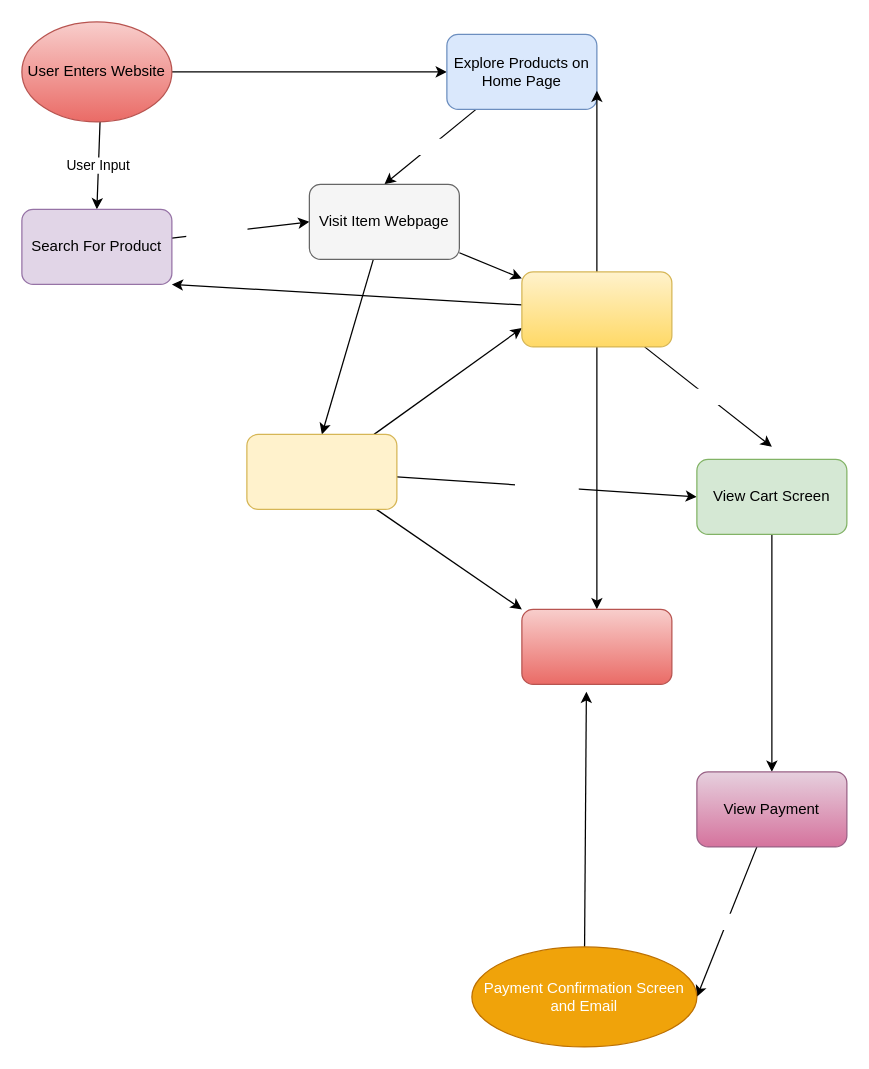
Some shapes in this 869 by 1069 pixel diagram are drawn without their labels. Here are the shapes that lost their labels. From the top down, the box of each, then its label:
(521, 271, 672, 347): Continue Shopping
(246, 433, 397, 509): Add to Cart
(521, 608, 672, 684): Leave Website
